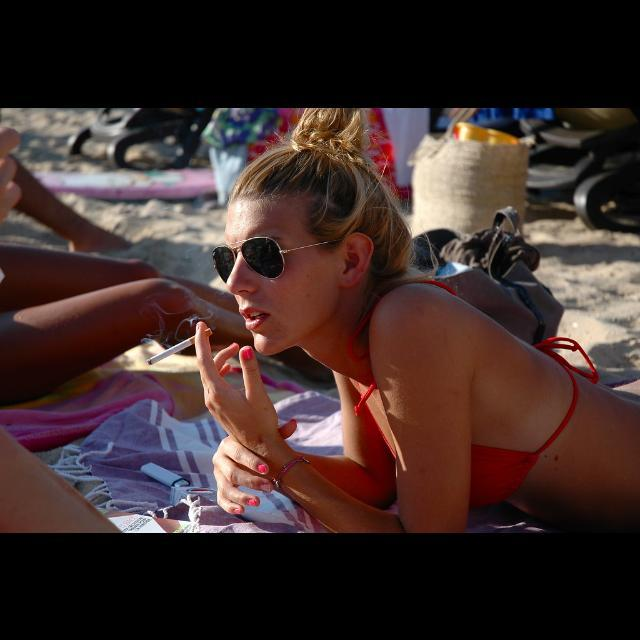rokok: (140, 325, 204, 365)
